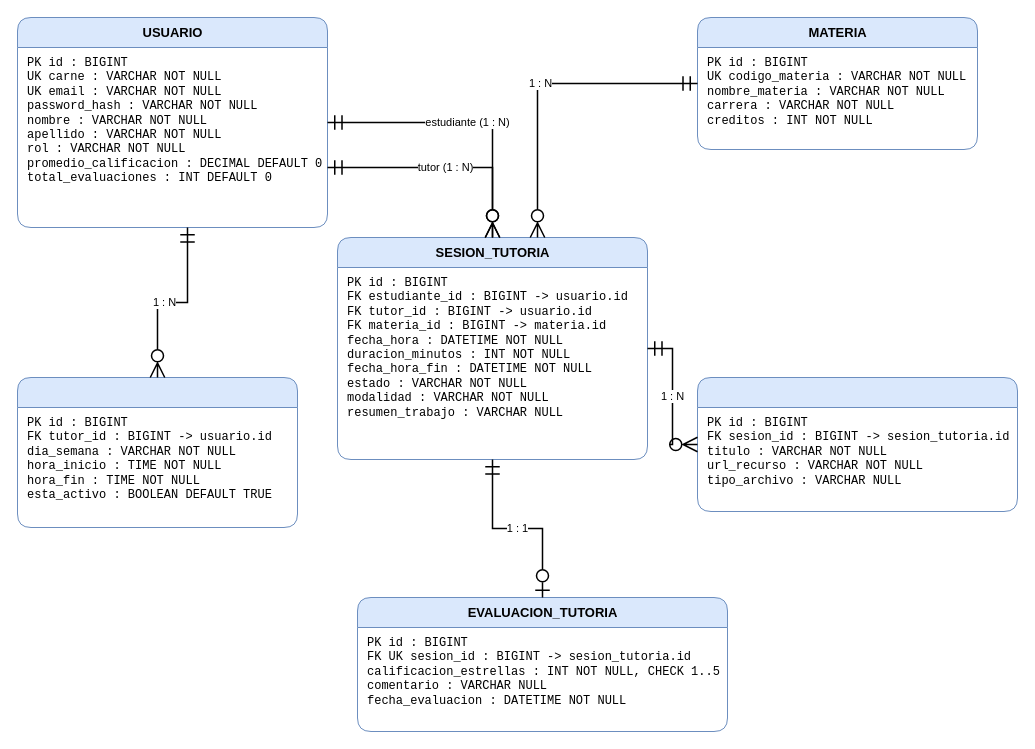
This 1035x749 diagram has some shape labels left out. Here are the shapes that lost their labels. From the top down, the box of each, then its label:
(16, 376, 298, 528): DISPONIBILIDAD_TUTOR
(696, 376, 1018, 512): RECURSO_ESTUDIO
